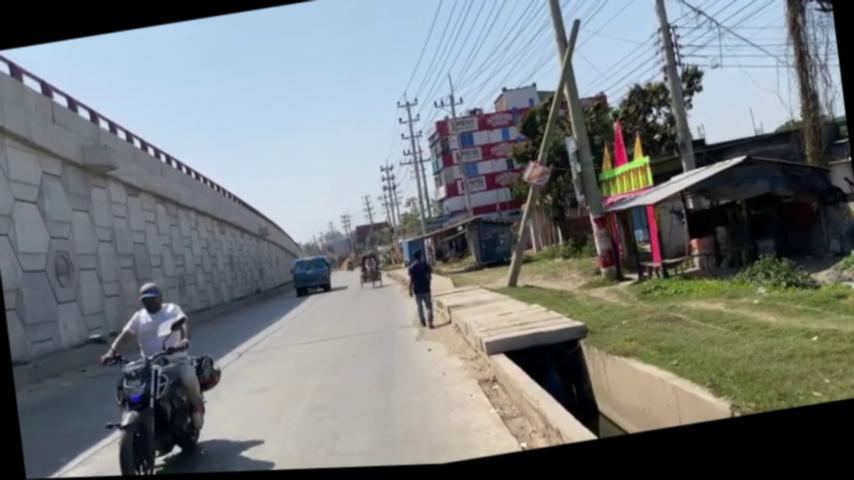Bollard: (288, 254, 334, 300)
Car: (460, 289, 682, 462)
Curb: (82, 313, 233, 478)
Fallen-tree: (0, 20, 267, 363)
Fence: (91, 276, 207, 445), (403, 250, 439, 335)
Garbage: (475, 21, 611, 293), (538, 0, 620, 291)
Rickshaw: (464, 216, 516, 273)
